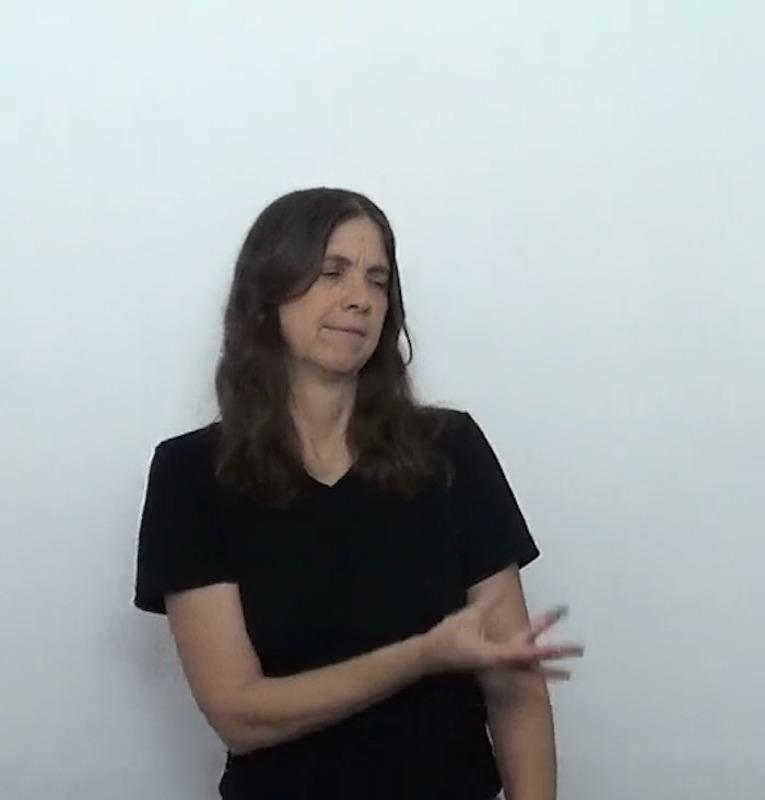Dolor: (126, 142, 628, 763)
